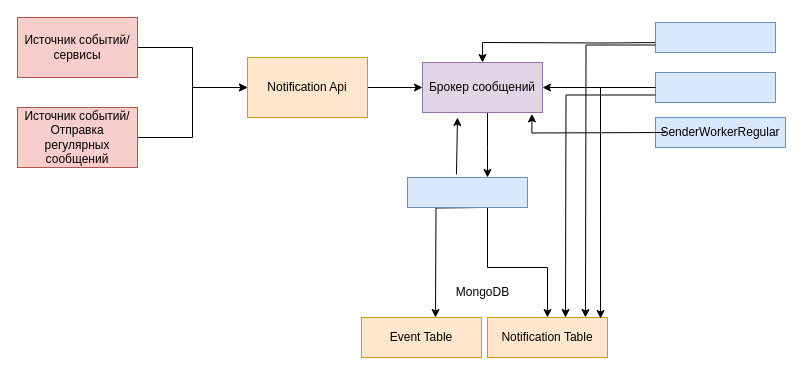
This 803x375 diagram has some shape labels left out. The centre of each missing label's shape, as x and y in pixels:
"EventWorker" goes at point 467,192.
"ScheduleWorker" goes at point 715,37.
"SenderWorker" goes at point 715,87.
